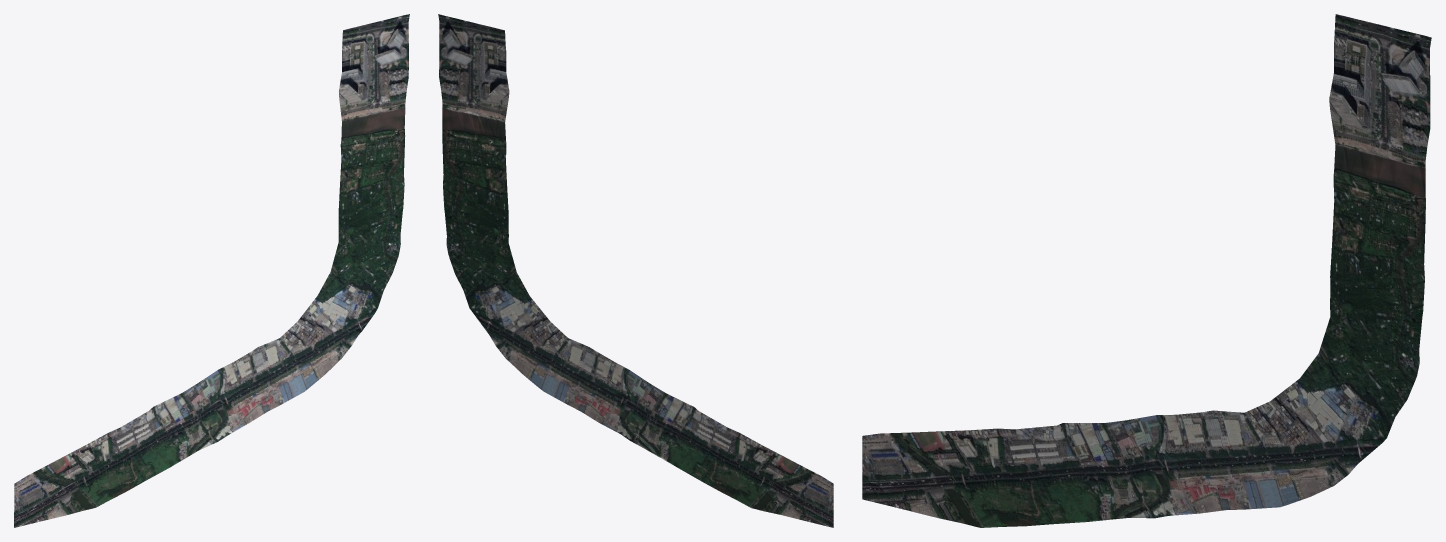
The picture shows the model from 3 angles, left to right: view 1: azimuth 30°, elevation 25°; view 2: azimuth 150°, elevation 25°; view 3: azimuth 330°, elevation 25°; orthographic projection. The views are drawn at different scales.
Visible parts, largest first — view 1: 0_2_1_2; view 2: 0_2_1_2; view 3: 0_2_1_2.
Boxes of the visible parts, x1=… form: 0_2_1_2: x1=14, y1=14, x2=409, y2=527; 0_2_1_2: x1=438, y1=14, x2=833, y2=527; 0_2_1_2: x1=862, y1=14, x2=1431, y2=527.
Bounding box in the file's own units: 1929 × 1945 × 10.98.
Materials: 1 (1 with a texture image).
